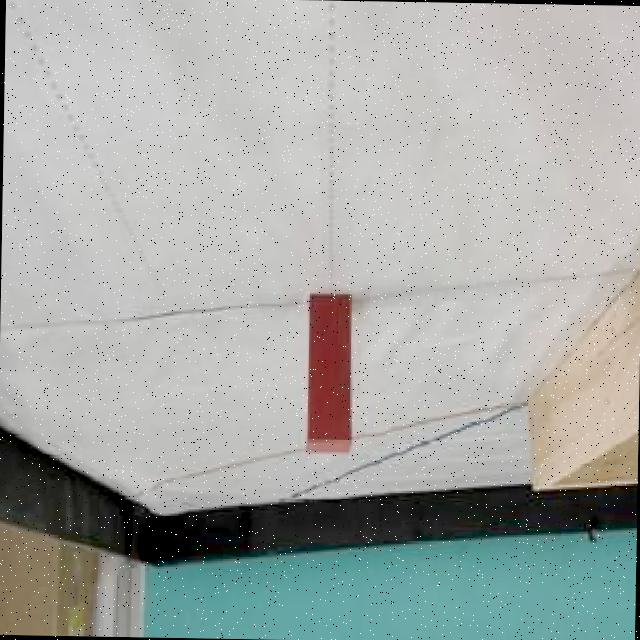redbox: (304, 294, 354, 455)
